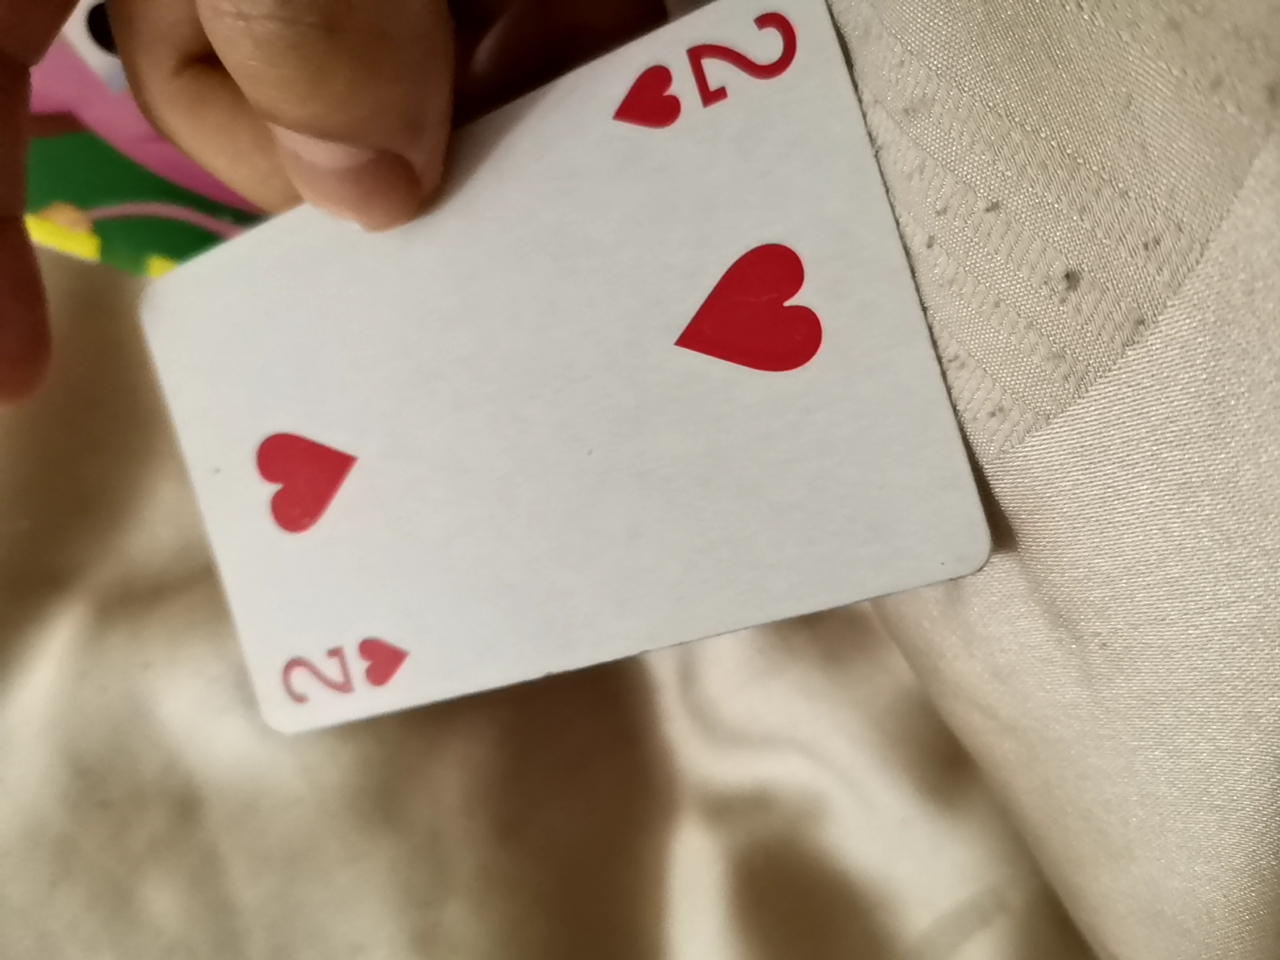hx 2: (122, 5, 988, 771)
